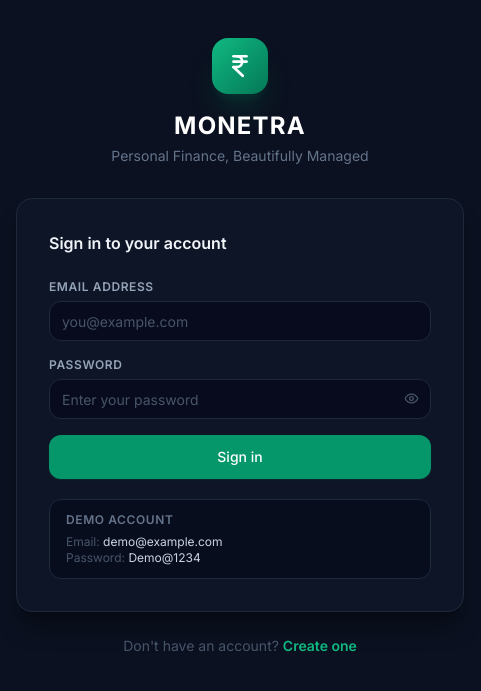
Test: LoginPage › shows validation error for invalid email
Click the button "Sign in": (240, 457) [49,435,431,479]
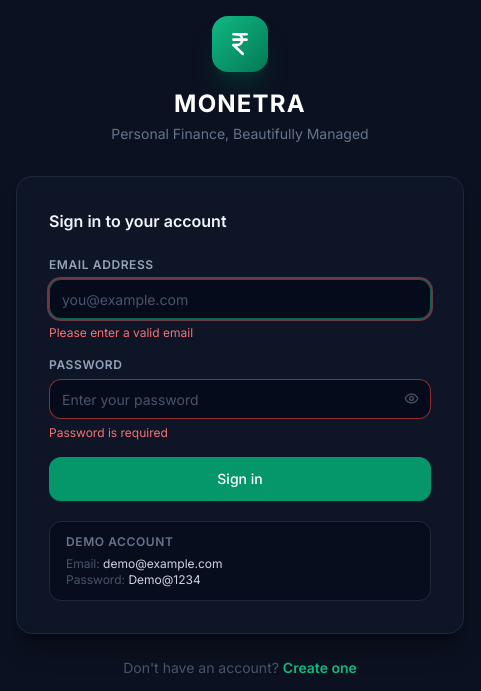
Result: the text "Please enter a valid email" is shown at [49,325,193,340]
